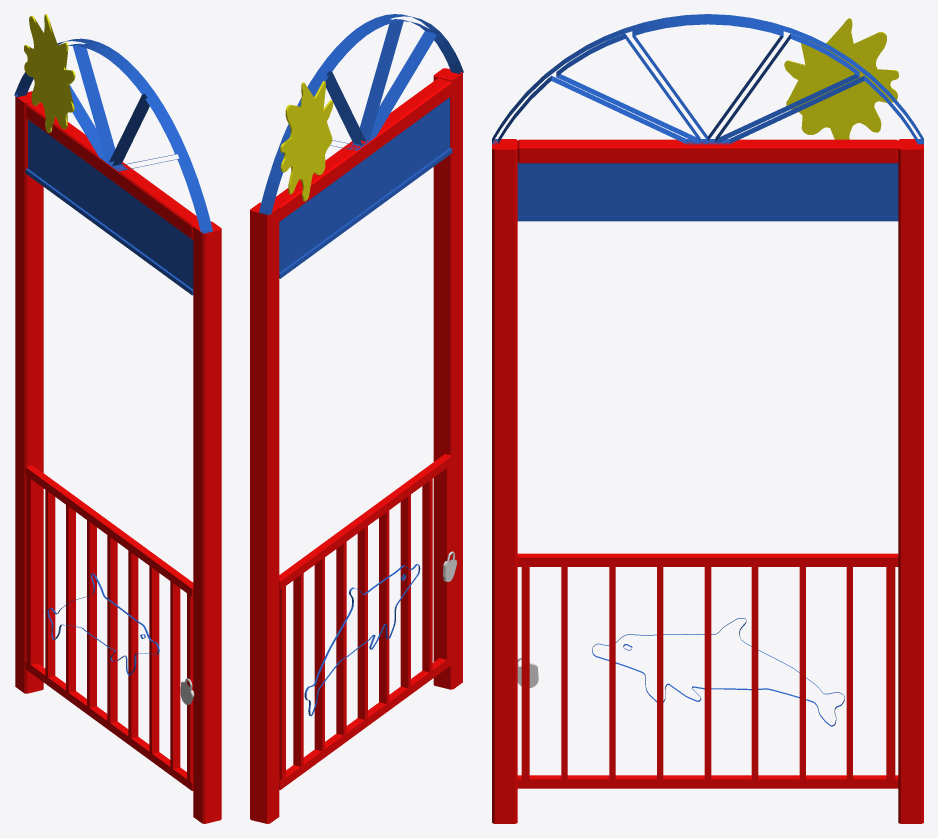
The picture shows the model from 3 angles, left to right: view 1: azimuth 30°, elevation 25°; view 2: azimuth 150°, elevation 25°; view 3: azimuth 270°, elevation 25°; orthographic projection. The views are drawn at different scales.
Visible parts, largest first — view 1: B-19; view 2: B-19; view 3: B-19.
Part boxes in pixels (x1,y1,x2,y2): B-19: [14, 14, 221, 823]; B-19: [250, 14, 463, 823]; B-19: [492, 14, 923, 823].
Size of the model in its own units: 9 by 277 by 136.
